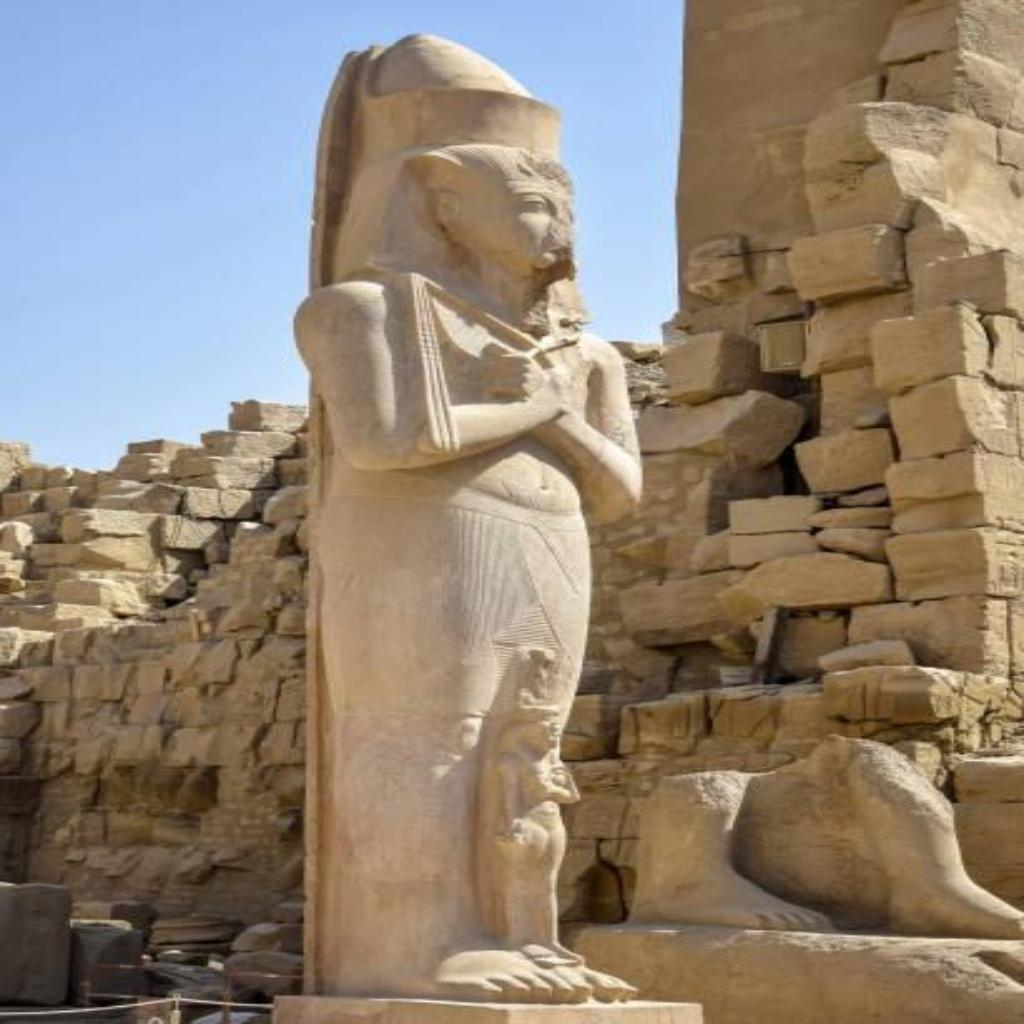Standing Statue of King Ramses II: (286, 32, 655, 1006)
